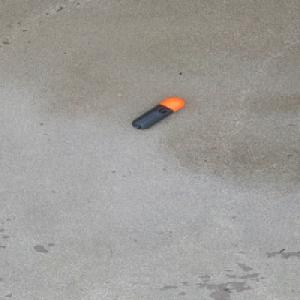PlasticPart: (130, 96, 185, 130)
